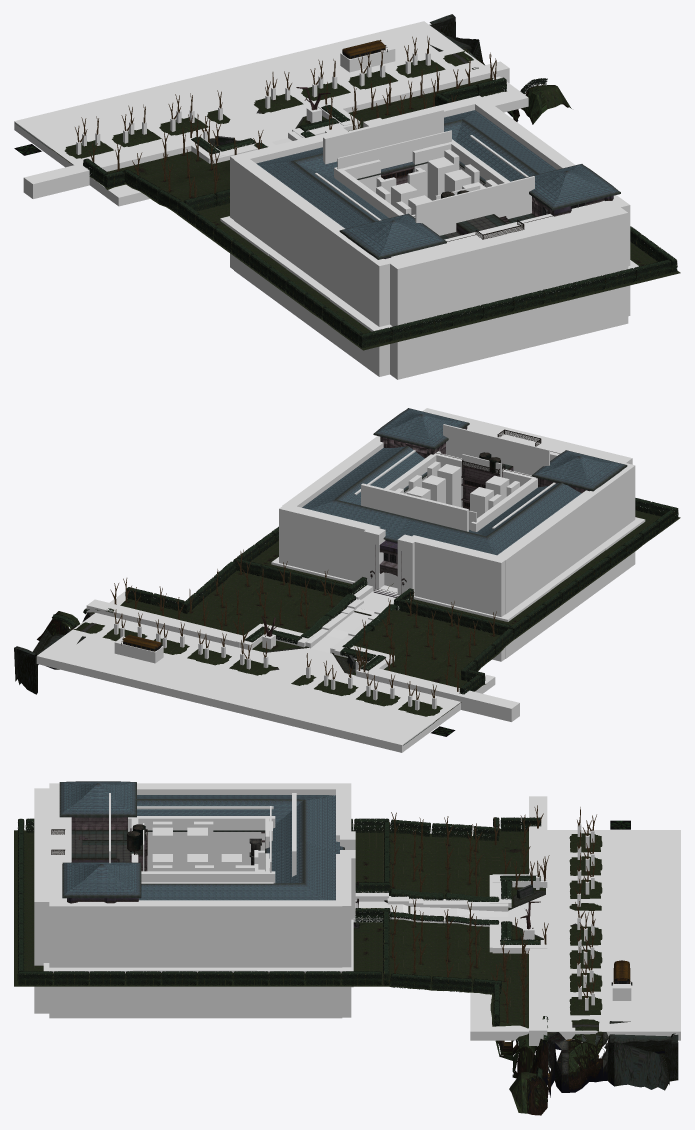
The model's file is Map.fbx.
3 views of the same model, one above another, from view 1: azimuth 30°, elevation 25°; view 2: azimuth 150°, elevation 25°; view 3: azimuth 270°, elevation 25° (orthographic). The views are drawn at different scales.
Visible parts, largest first — view 1: COL_Wall_007, COL_Floor_014.006, SM_OutsideSchoolEnterace, COL_Wall_005, SM_Roof, SM_Outside, COL_Wall_011.011, COL_Wall_011.008, COL_Wall_004.009, COL_Wall_004.008, COL_Wall_006, COL_Wall_011.001 (+11 smaller); view 2: SM_OutsideSchoolEnterace, COL_Floor_014.006, SM_Roof, COL_Wall_005, SM_Outside, COL_Wall_002.001, COL_Wall_002, COL_Wall_011.011, COL_Wall_004.009, COL_Wall_011.008, COL_Wall_004.008, COL_Wall_007 (+11 smaller); view 3: SM_OutsideSchoolEnterace, COL_Wall_006, COL_Floor_014.006, SM_Roof, SM_Outside, COL_Wall_007, COL_Wall_012, SM_SchoolRooftop, COL_Wall_005, COL_Wall_004.008, COL_Wall_002, COL_Wall_012.001 (+8 smaller).
Boxes of the visible parts, <box> form: COL_Wall_007: <box>386,200,628,379</box>; COL_Floor_014.006: <box>14,21,528,206</box>; SM_OutsideSchoolEnterace: <box>15,14,571,213</box>; COL_Wall_005: <box>234,159,391,376</box>; SM_Roof: <box>256,110,620,259</box>; SM_Outside: <box>177,189,680,350</box>; COL_Wall_011.011: <box>415,176,534,235</box>; COL_Wall_011.008: <box>323,108,443,164</box>; COL_Wall_004.009: <box>23,136,196,198</box>; COL_Wall_004.008: <box>334,61,509,112</box>; COL_Wall_006: <box>475,98,630,316</box>; COL_Wall_011.001: <box>337,130,451,169</box>; SM_OutsideSchoolEnterace: <box>14,549,514,745</box>; COL_Floor_014.006: <box>36,591,495,752</box>; SM_Roof: <box>302,408,627,555</box>; COL_Wall_005: <box>497,462,635,658</box>; SM_Outside: <box>233,428,680,639</box>; COL_Wall_002.001: <box>412,535,507,661</box>; COL_Wall_002: <box>279,504,380,581</box>; COL_Wall_011.011: <box>443,424,549,475</box>; COL_Wall_004.009: <box>359,667,519,721</box>; COL_Wall_011.008: <box>361,483,468,531</box>; COL_Wall_004.008: <box>86,599,242,647</box>; COL_Wall_007: <box>422,408,632,464</box>; SM_OutsideSchoolEnterace: <box>389,805,678,1115</box>; COL_Wall_006: <box>49,900,342,1018</box>; COL_Floor_014.006: <box>470,830,680,1040</box>; SM_Roof: <box>59,781,344,900</box>; SM_Outside: <box>14,818,390,986</box>; COL_Wall_007: <box>34,788,71,1013</box>; COL_Wall_012: <box>128,816,275,871</box>; SM_SchoolRooftop: <box>51,817,147,900</box>; COL_Wall_005: <box>49,783,335,795</box>; COL_Wall_004.008: <box>529,948,547,1045</box>; COL_Wall_002: <box>336,854,351,1017</box>; COL_Wall_012.001: <box>141,871,275,883</box>.
Size of the model in its own units: 9068 by 2943 by 9697.
Materials: 112 (110 with a texture image).
